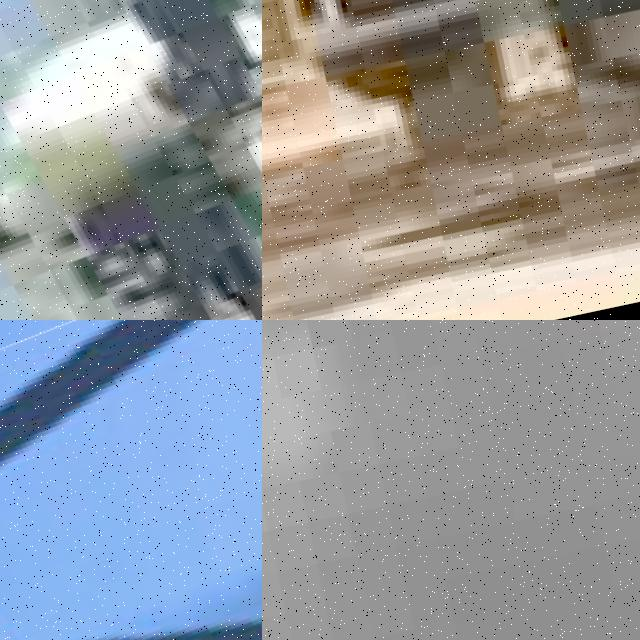drone: (0, 0, 262, 320), (0, 320, 262, 640)
